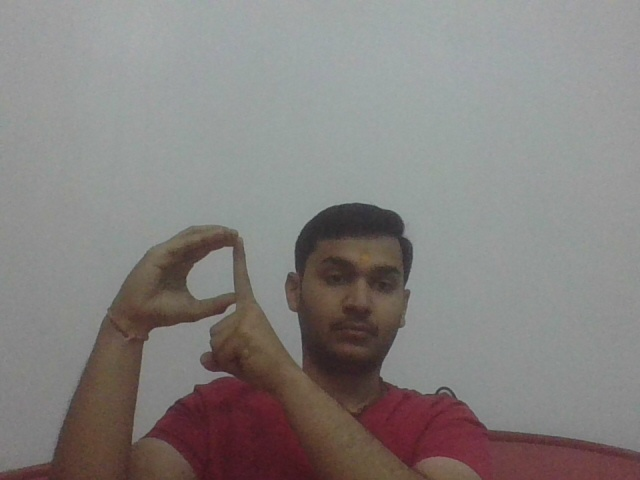D: (124, 219, 275, 378)
